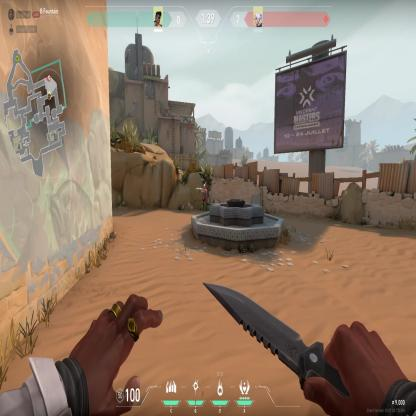enemy: (202, 183, 210, 211)
